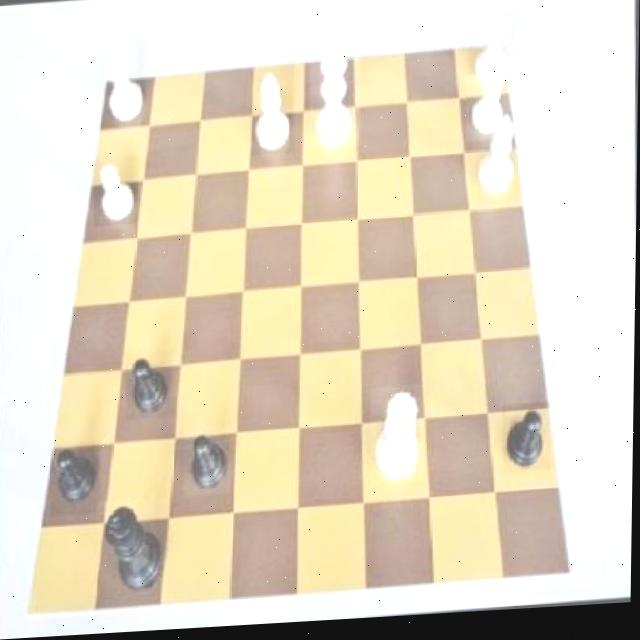black-bishop: (97, 499, 169, 613)
black-knight: (51, 441, 103, 516), (502, 408, 552, 479), (127, 350, 176, 422), (185, 429, 232, 499)
black-rook: (476, 116, 523, 212), (250, 69, 295, 159)
white-bishop: (308, 37, 362, 152)
white-knight: (94, 156, 139, 227), (467, 78, 513, 147)
white-pawn: (370, 389, 427, 489)
white-queen: (469, 14, 524, 98), (97, 38, 147, 130)
